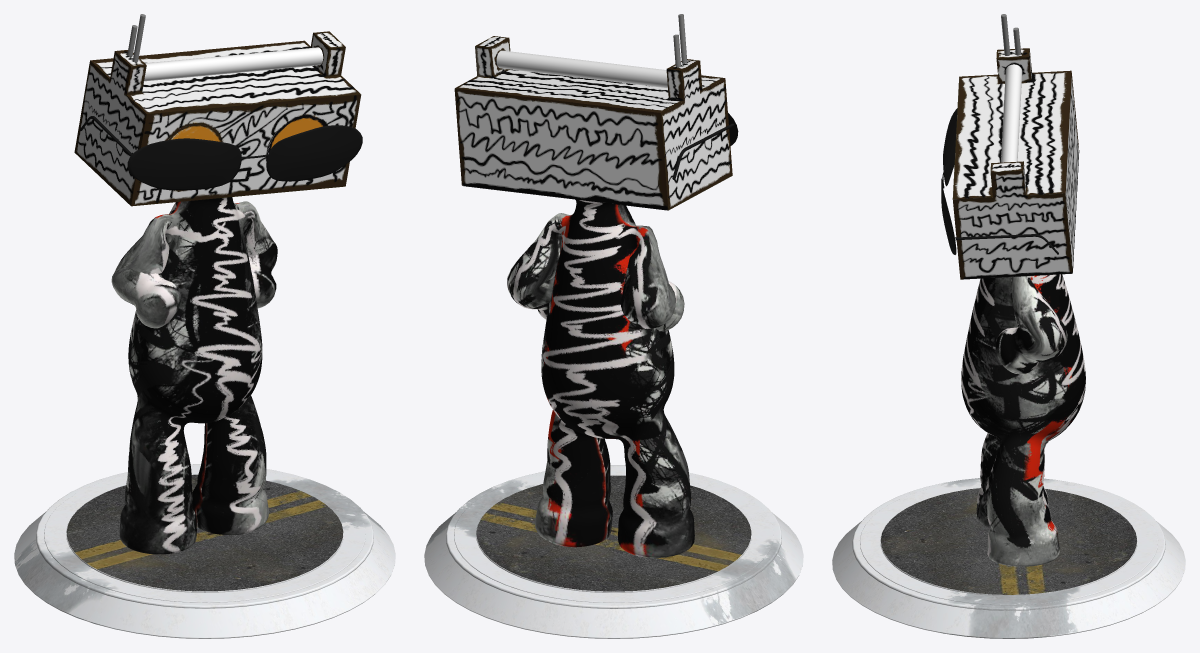
3 renders of one model, left to right at view 1: azimuth 30°, elevation 25°; view 2: azimuth 150°, elevation 25°; view 3: azimuth 270°, elevation 25°, orthographic. The views are drawn at different scales.
Visible parts, largest first — view 1: BBody; view 2: BBody; view 3: BBody.
Part boxes in pixels (x1,y1,x2,y2): BBody: [14, 14, 395, 638]; BBody: [424, 14, 803, 638]; BBody: [832, 14, 1185, 638].
Size of the model in its own units: 1.45 by 2.35 by 1.45.
Materials: 6 (4 with a texture image).
